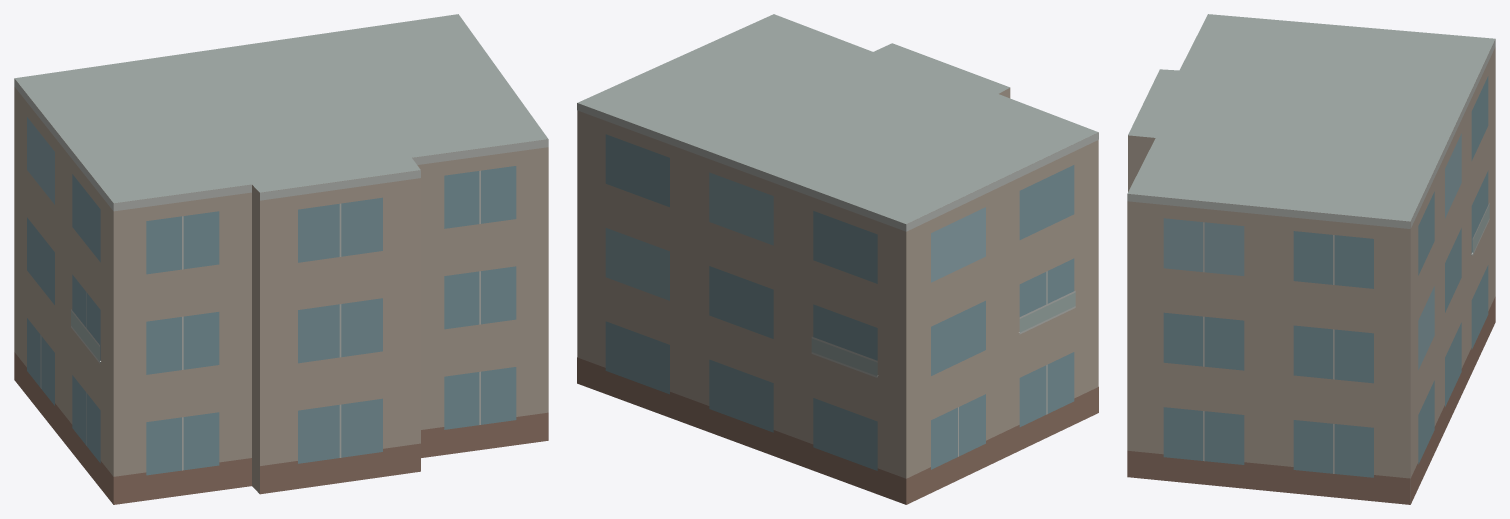
Rendered from survey-upis-32702664.glb.
The picture shows the model from 3 angles, left to right: view 1: azimuth 30°, elevation 25°; view 2: azimuth 150°, elevation 25°; view 3: azimuth 270°, elevation 25°; orthographic projection. The views are drawn at different scales.
Visible parts, largest first — view 1: survey-upis-32702664.tmp; view 2: survey-upis-32702664.tmp; view 3: survey-upis-32702664.tmp.
Part boxes in pixels (left/top/right/bottom): survey-upis-32702664.tmp: left=14, top=14, right=548, bottom=504; survey-upis-32702664.tmp: left=577, top=14, right=1098, bottom=504; survey-upis-32702664.tmp: left=1127, top=14, right=1495, bottom=504.
Size of the model in its own units: 14.39 by 9.15 by 10.79.
